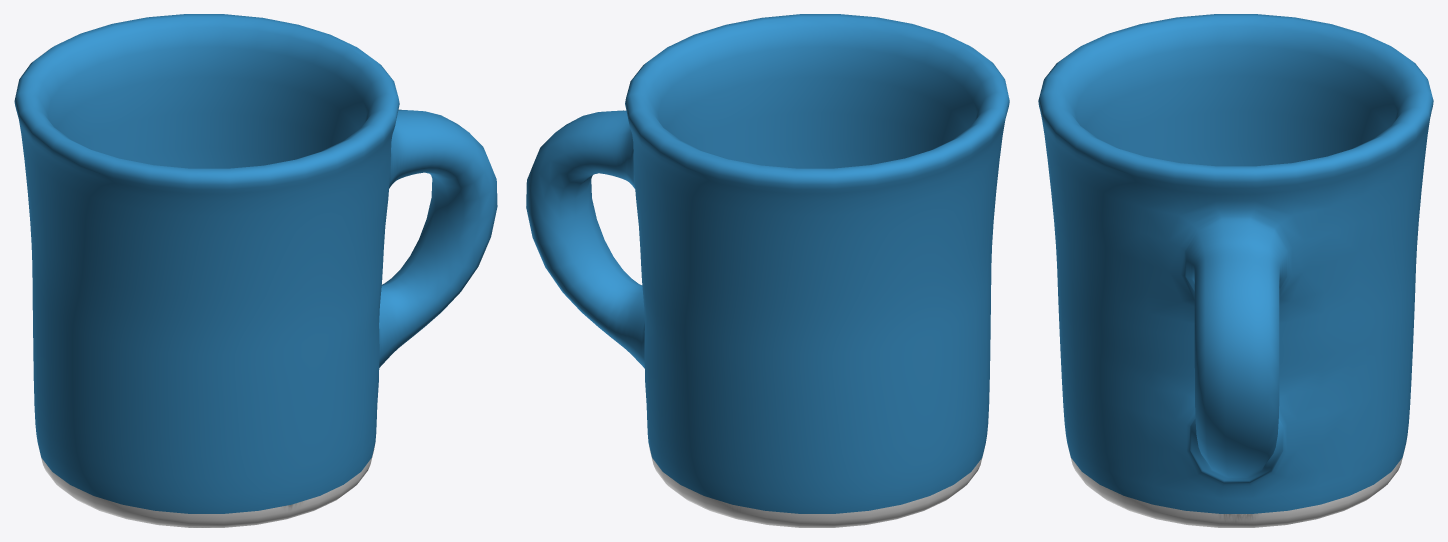
Rendered from CUP.fbx.
3 views of the same model, side by side, from view 1: azimuth 30°, elevation 25°; view 2: azimuth 150°, elevation 25°; view 3: azimuth 270°, elevation 25° (orthographic).
Visible parts, largest first — view 1: Cup-Main; view 2: Cup-Main; view 3: Cup-Main.
Boxes of the visible parts, <box> form: Cup-Main: <box>14,14,497,527</box>; Cup-Main: <box>526,14,1009,527</box>; Cup-Main: <box>1038,14,1433,527</box>.
Size of the model in its own units: 10.16 by 8.07 by 7.78.
